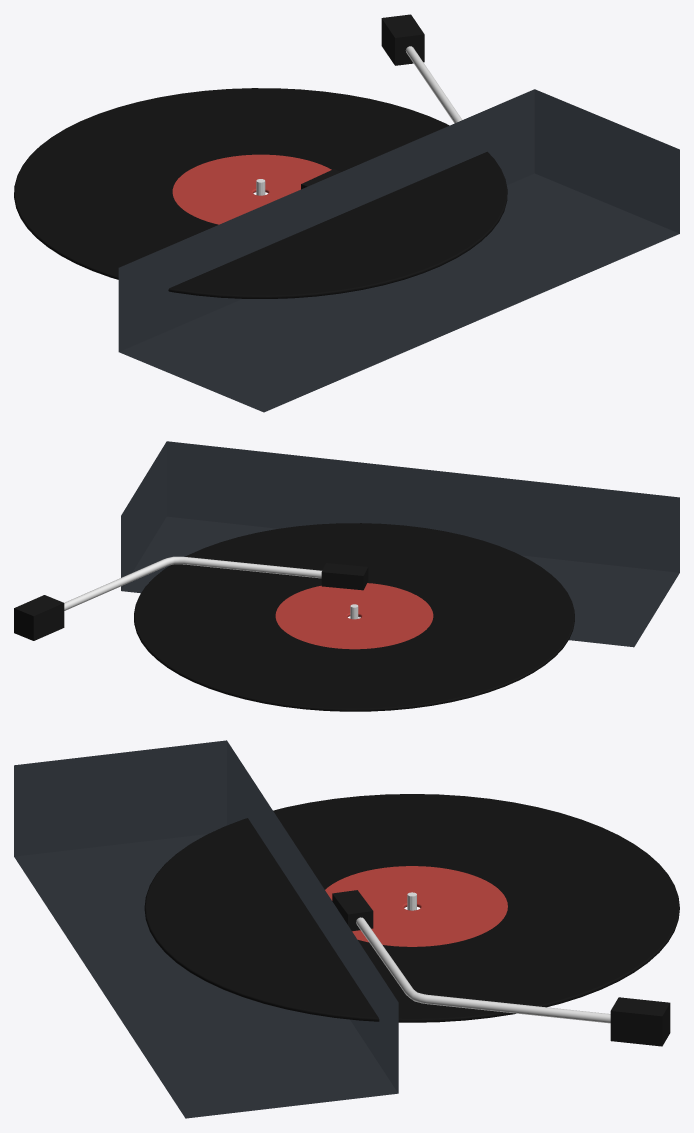
Rendered from vinyl.glb.
The picture shows the model from 3 angles, top to bottom: view 1: azimuth 30°, elevation 25°; view 2: azimuth 150°, elevation 25°; view 3: azimuth 270°, elevation 25°; orthographic projection. The views are drawn at different scales.
Visible parts, largest first — view 1: Holder, Vinyl, Cube; view 2: Vinyl, Holder, Cube; view 3: Vinyl, Holder, Cube.
Boxes of the visible parts, <box> form: Holder: <box>118,89,679,412</box>; Vinyl: <box>14,88,507,298</box>; Cube: <box>301,14,462,189</box>; Vinyl: <box>134,523,574,711</box>; Holder: <box>121,441,679,647</box>; Cube: <box>14,556,368,640</box>; Vinyl: <box>144,794,679,1022</box>; Holder: <box>14,740,398,1118</box>; Cube: <box>332,890,670,1046</box>.
Bounding box in the file's own units: 51.06 × 7.58 × 50.1.
